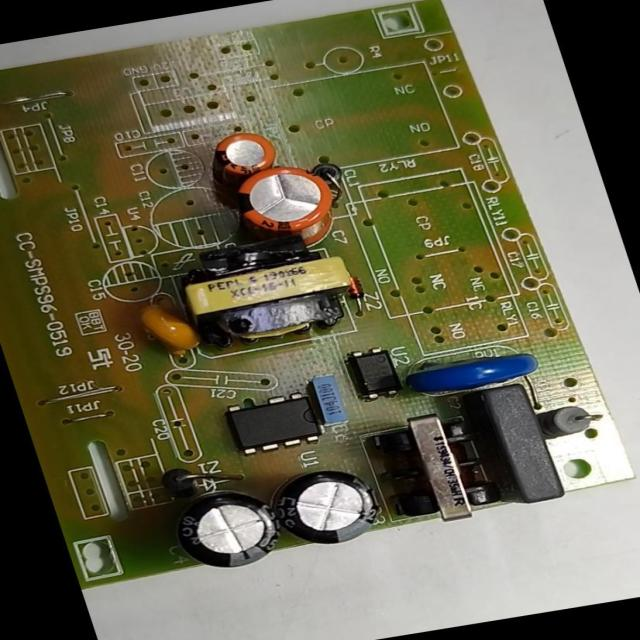Cap1: (218, 156, 348, 251)
Cap2: (198, 126, 284, 182)
Cap3: (262, 463, 392, 555)
Cap4: (158, 480, 292, 576)
MOSFET: (210, 384, 332, 459)
Mov: (391, 342, 547, 400)
Resistor: (535, 400, 610, 444)
Transformer: (164, 235, 373, 359), (354, 403, 510, 533)
